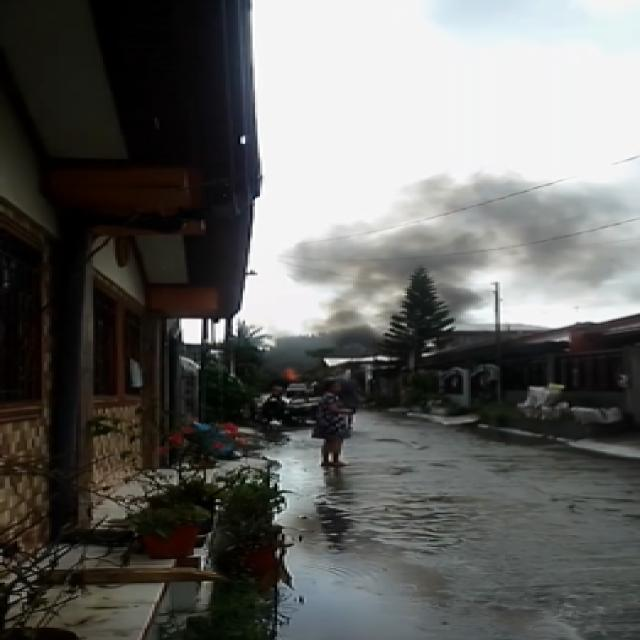Fire: (282, 367, 300, 382)
Smoke: (274, 171, 581, 367)
